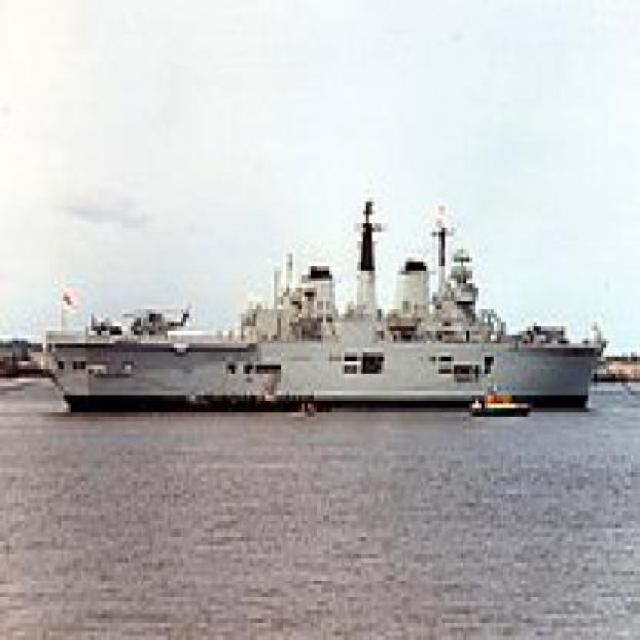warship2: (31, 169, 611, 418)
